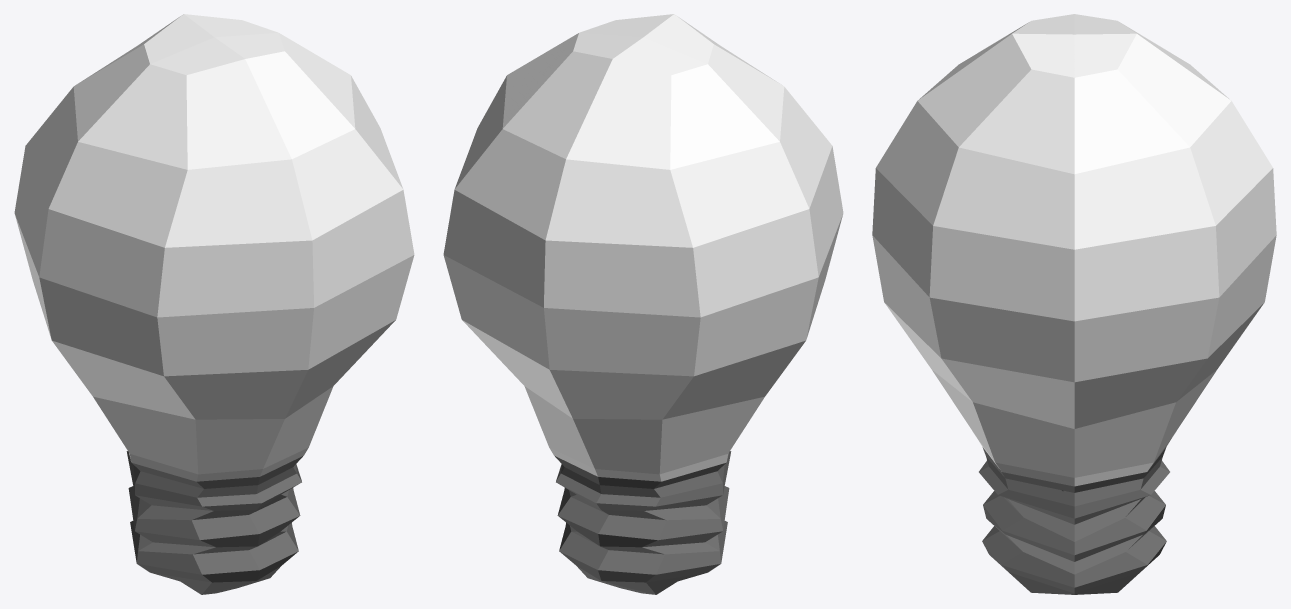
File: LightBulbProp.fbx
The picture shows the model from 3 angles, left to right: view 1: azimuth 30°, elevation 25°; view 2: azimuth 150°, elevation 25°; view 3: azimuth 270°, elevation 25°; orthographic projection.
Parts seen in each view (by area): view 1: LightBulbTop.001, LightBulbProp; view 2: LightBulbTop.001, LightBulbProp; view 3: LightBulbTop.001, LightBulbProp.
Part boxes in pixels (bbox=[...]): LightBulbTop.001: bbox=[14, 14, 414, 481]; LightBulbProp: bbox=[126, 451, 302, 594]; LightBulbTop.001: bbox=[443, 14, 843, 481]; LightBulbProp: bbox=[555, 451, 731, 594]; LightBulbTop.001: bbox=[872, 14, 1276, 486]; LightBulbProp: bbox=[979, 447, 1169, 594].
Bounding box in the file's own units: 153 × 228 × 150.
